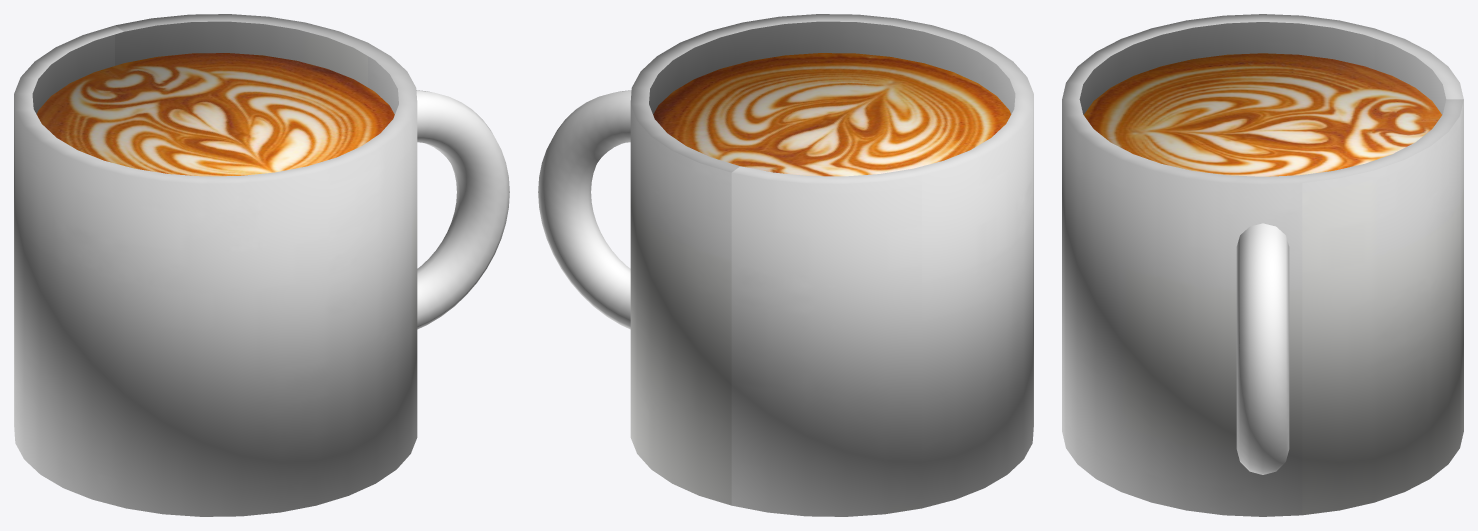
Rendered from mug.glb.
The picture shows the model from 3 angles, left to right: view 1: azimuth 30°, elevation 25°; view 2: azimuth 150°, elevation 25°; view 3: azimuth 270°, elevation 25°; orthographic projection.
Visible parts, largest first — view 1: taza de cafe, mango de la taza; view 2: taza de cafe, mango de la taza; view 3: taza de cafe, mango de la taza.
Part boxes in pixels (x1=…): taza de cafe: x1=14, y1=14, x2=417, y2=516; mango de la taza: x1=416, y1=90, x2=509, y2=329; taza de cafe: x1=630, y1=14, x2=1033, y2=516; mango de la taza: x1=538, y1=90, x2=631, y2=329; taza de cafe: x1=1062, y1=14, x2=1463, y2=516; mango de la taza: x1=1236, y1=223, x2=1289, y2=474.
Bounding box in the file's own units: 2.93 × 2 × 2.19.
Materials: 2 (1 with a texture image).
